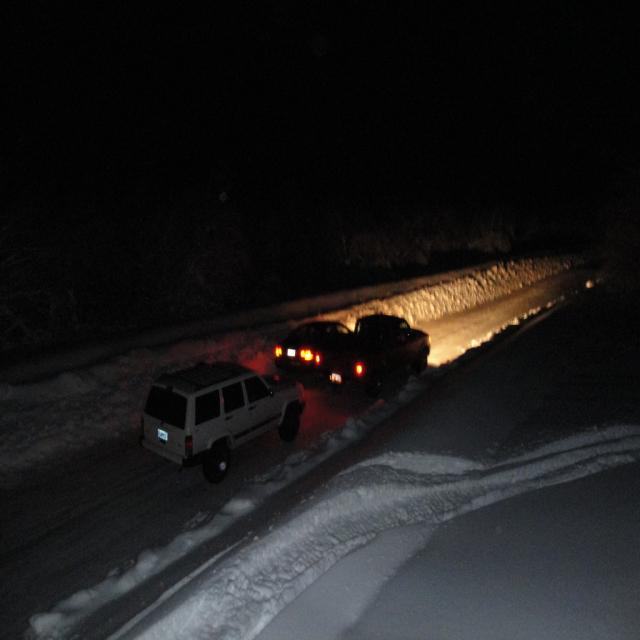car: (137, 356, 307, 481)
